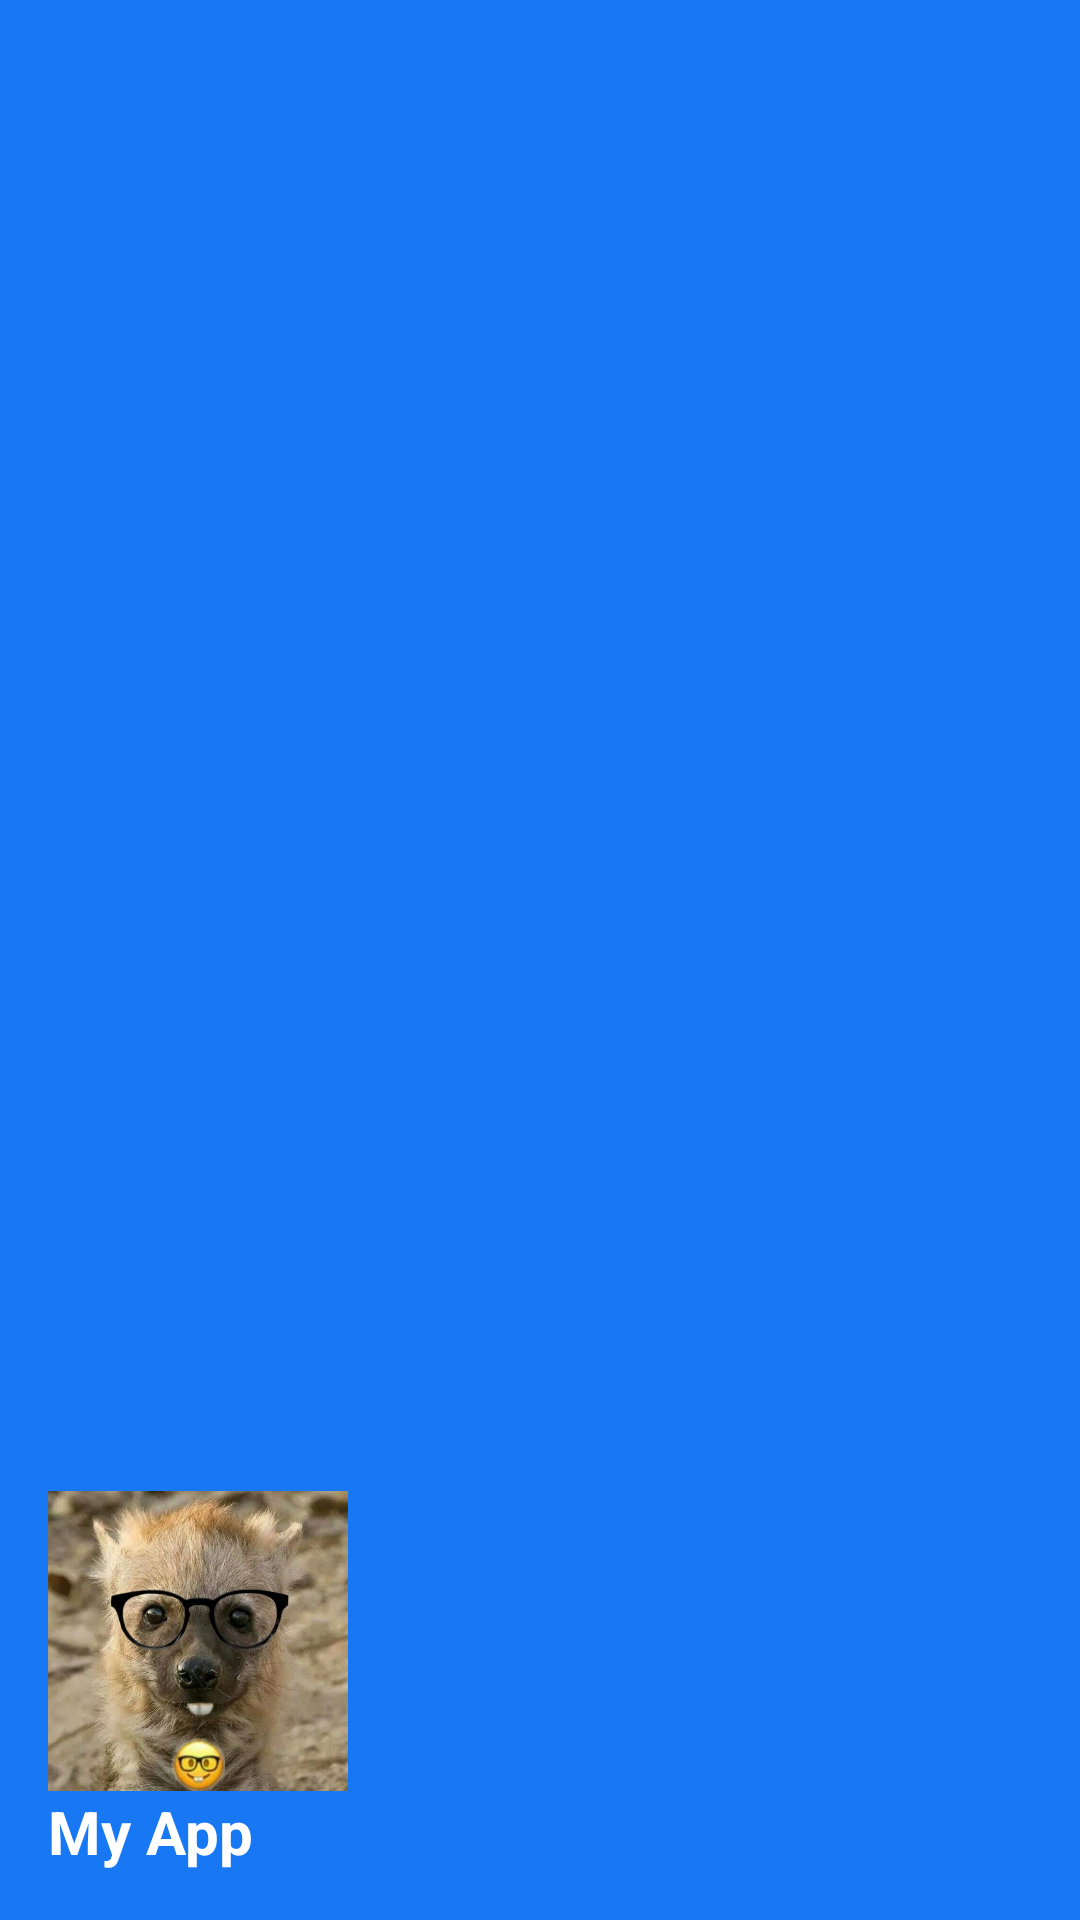

Icons on this 1080px×1920px Android screen, each with its box as (x1, y1, x2, y2):
hyena: (48, 1491, 348, 1791)
